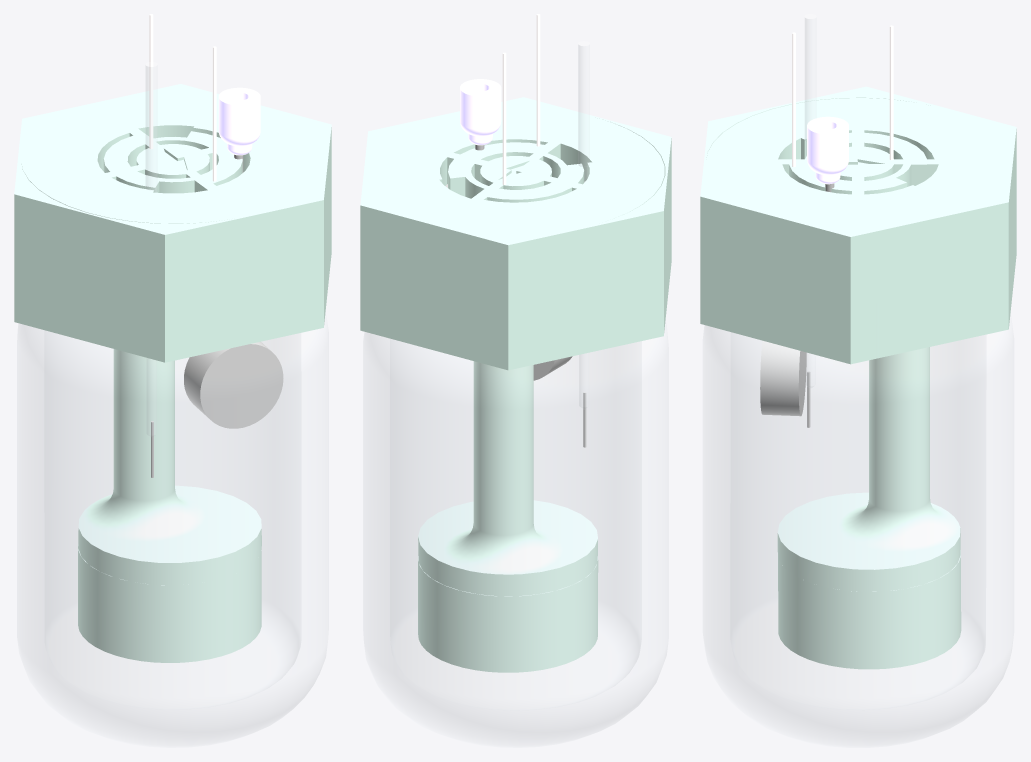
3 views of the same model, side by side, from view 1: azimuth 30°, elevation 25°; view 2: azimuth 150°, elevation 25°; view 3: azimuth 270°, elevation 25° (orthographic). The views are drawn at different scales.
Parts seen in each view (by area): view 1: glass_jar, cap (1), hcell_top, lid, carbon_felt, syringe_top, glass_ref, Ti_2, Ti_1; view 2: glass_jar, cap (1), hcell_top, lid, syringe_top, glass_ref, Ti_1, Ti_2; view 3: glass_jar, cap (1), hcell_top, lid, carbon_felt, syringe_top, glass_ref, Ti_1, Ti_2.
Part boxes in pixels (x1,y1,x2,y2): glass_jar: (17,315,328,747); cap (1): (14,84,331,362); hcell_top: (78,349,261,585); lid: (78,544,261,662); carbon_felt: (184,341,283,428); syringe_top: (218,87,260,155); glass_ref: (146,62,156,436); Ti_2: (212,46,216,181); Ti_1: (149,14,153,149); glass_jar: (363,324,668,747); cap (1): (360,97,671,370); hcell_top: (418,361,597,596); lid: (418,556,598,672); syringe_top: (460,79,501,145); glass_ref: (578,41,589,408); Ti_1: (502,52,506,184); Ti_2: (536,14,540,146); glass_jar: (703,316,1013,747); cap (1): (700,86,1016,364); hcell_top: (777,347,960,591); lid: (778,550,961,669); carbon_felt: (760,340,806,416); syringe_top: (807,116,848,184); glass_ref: (805,14,815,387); Ti_1: (889,25,893,160); Ti_2: (792,32,795,167).
Bounding box in the file's own units: 5.83 × 12.32 × 5.18.
